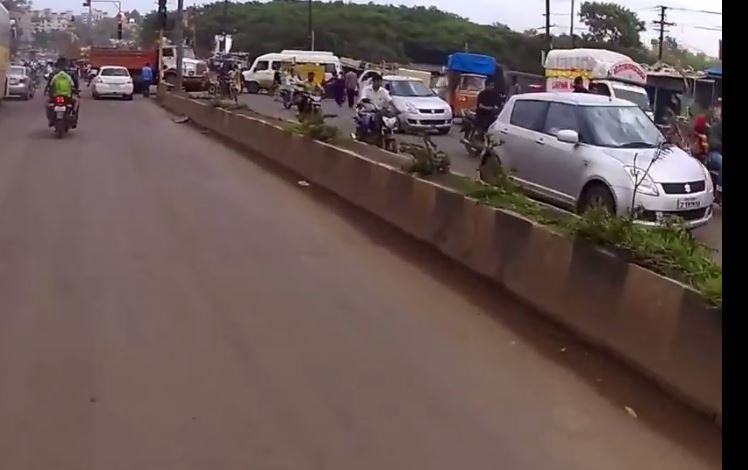car: (481, 79, 724, 233), (383, 69, 455, 137), (88, 61, 140, 111)
